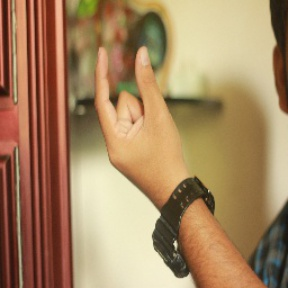U: (85, 39, 180, 173)
